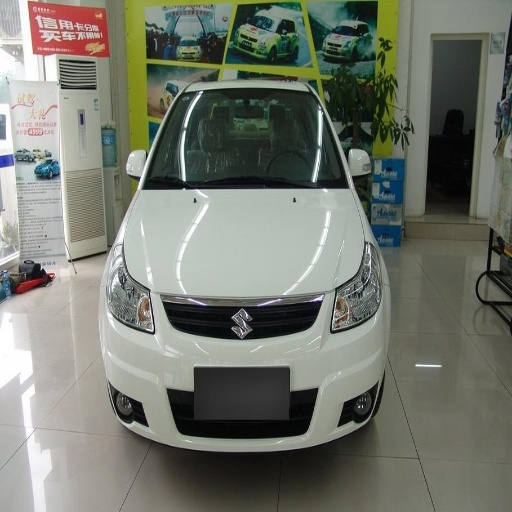front_bumper: (102, 290, 386, 450)
front_right_light: (104, 245, 154, 333)
hood: (125, 188, 363, 301)
